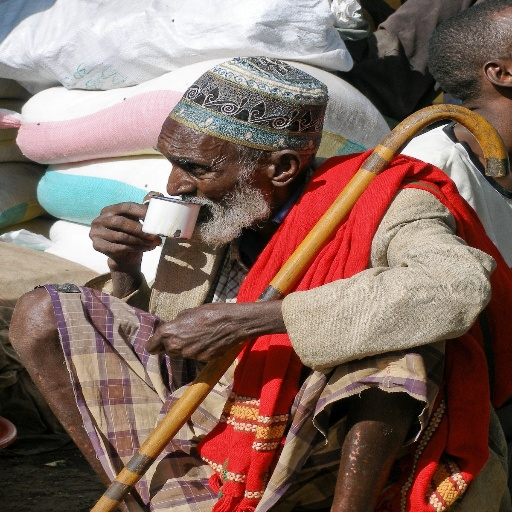hand: (144, 300, 241, 363), (90, 191, 162, 259)
